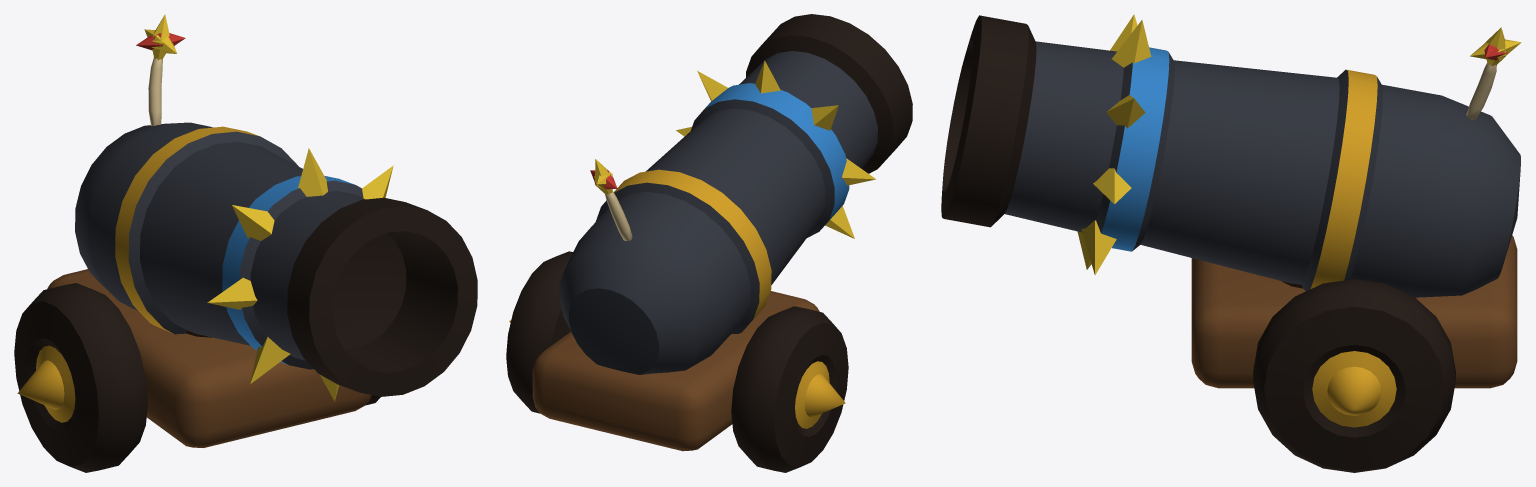
3 views of the same model, side by side, from view 1: azimuth 30°, elevation 25°; view 2: azimuth 150°, elevation 25°; view 3: azimuth 270°, elevation 25° (orthographic). The views are drawn at different scales.
Parts seen in each view (by area): view 1: bomba_1_torreta, bomba_0_base; view 2: bomba_1_torreta, bomba_0_base; view 3: bomba_1_torreta, bomba_0_base.
Boxes of the visible parts, box(x1,y1,x2,y2) form: bomba_1_torreta: box(75, 14, 477, 401); bomba_0_base: box(14, 269, 380, 472); bomba_1_torreta: box(559, 14, 912, 374); bomba_0_base: box(506, 251, 848, 472); bomba_1_torreta: box(941, 14, 1521, 297); bomba_0_base: box(1191, 235, 1517, 472).
Size of the model in its own units: 0.784 by 0.707 by 0.9622.
